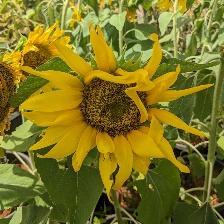sunflower: (50, 50, 181, 176)
